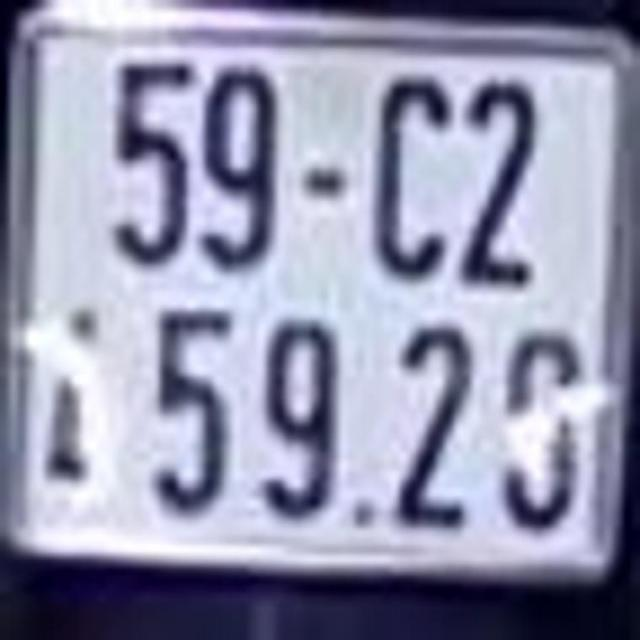0: (498, 321, 585, 537)
2: (393, 312, 475, 535), (459, 73, 536, 290)
5: (110, 57, 193, 266), (153, 302, 234, 516)
9: (257, 306, 337, 524), (198, 61, 278, 276)
C: (372, 68, 453, 284)
